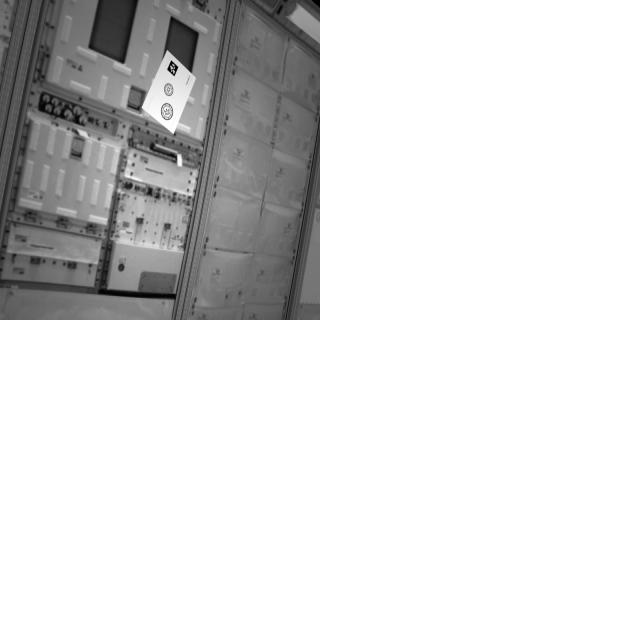coin: (161, 103, 175, 121), (164, 83, 177, 98)
